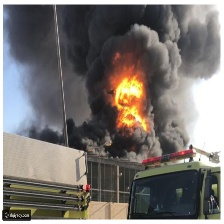fire: (113, 75, 148, 131)
smoke: (4, 6, 224, 157)
